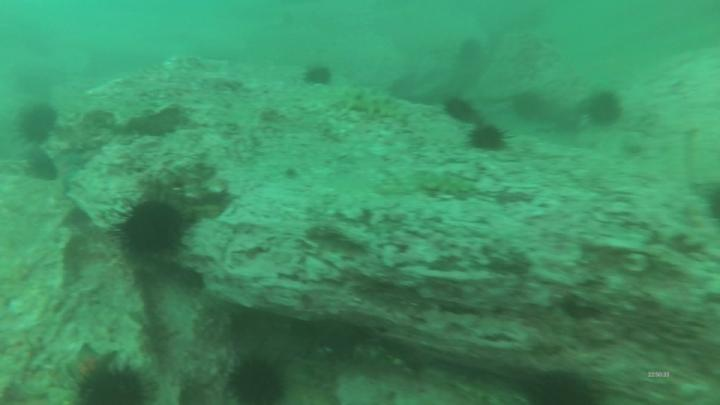echinus: (109, 191, 194, 269), (70, 359, 162, 405), (225, 352, 288, 405), (522, 368, 603, 405), (13, 102, 60, 149), (582, 89, 626, 132), (466, 122, 509, 154), (441, 96, 482, 128), (23, 153, 61, 181), (303, 64, 335, 88), (458, 36, 486, 60)
holothurian: (406, 166, 480, 204), (335, 85, 410, 118)
starfish: (63, 342, 122, 395)
